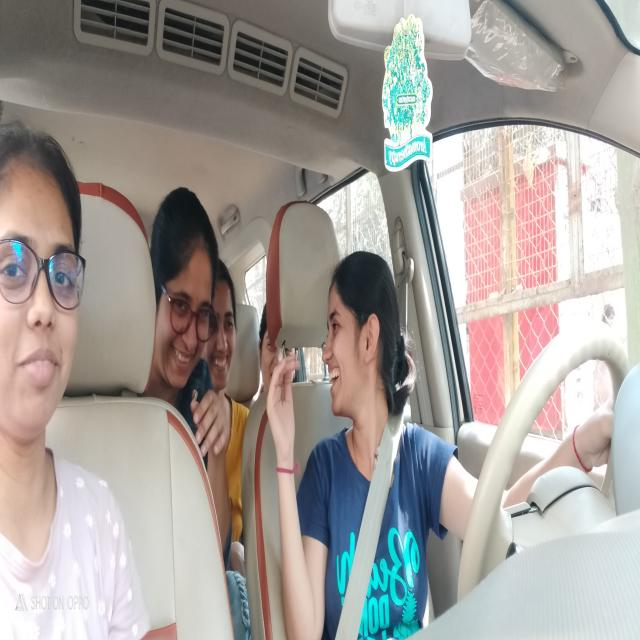LeftRight: (321, 249, 402, 421)
person: (0, 116, 88, 452), (152, 180, 216, 392), (260, 300, 303, 396), (214, 266, 240, 394)
talking: (326, 364, 346, 397)
